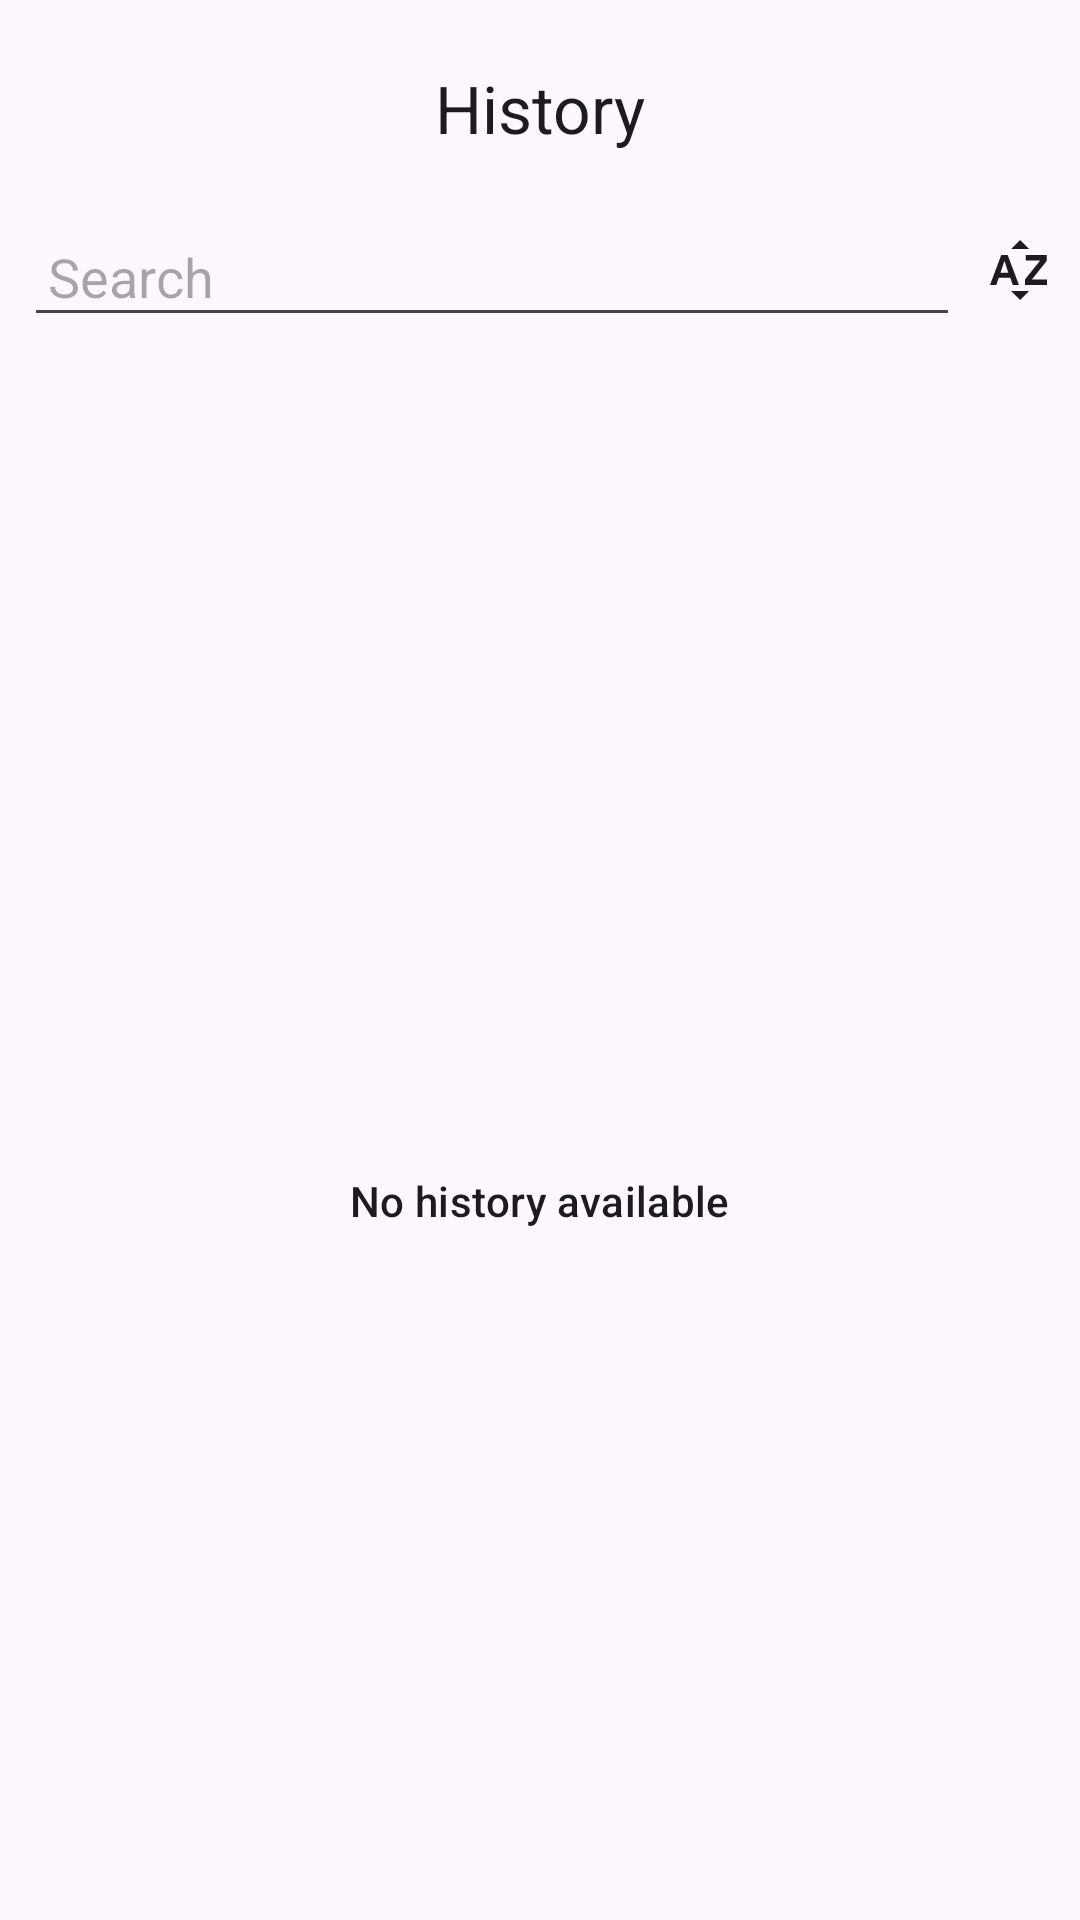

Icons on this 1080*1920 Android screen, each with its box as bbox(x1, y1, x2, y2):
sort: bbox(990, 240, 1047, 300)
